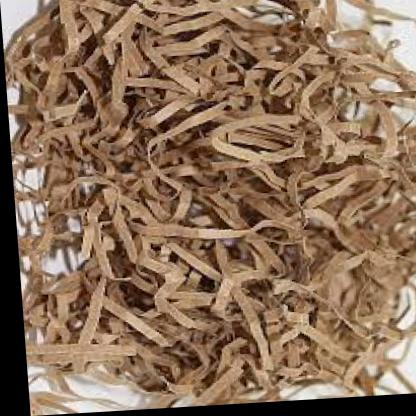Paper: (4, 0, 416, 407)
